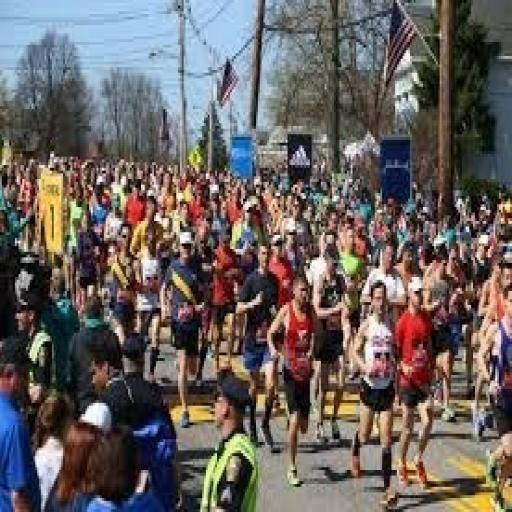running: (347, 277, 401, 509), (265, 272, 321, 490), (392, 272, 440, 496), (158, 226, 210, 430)
